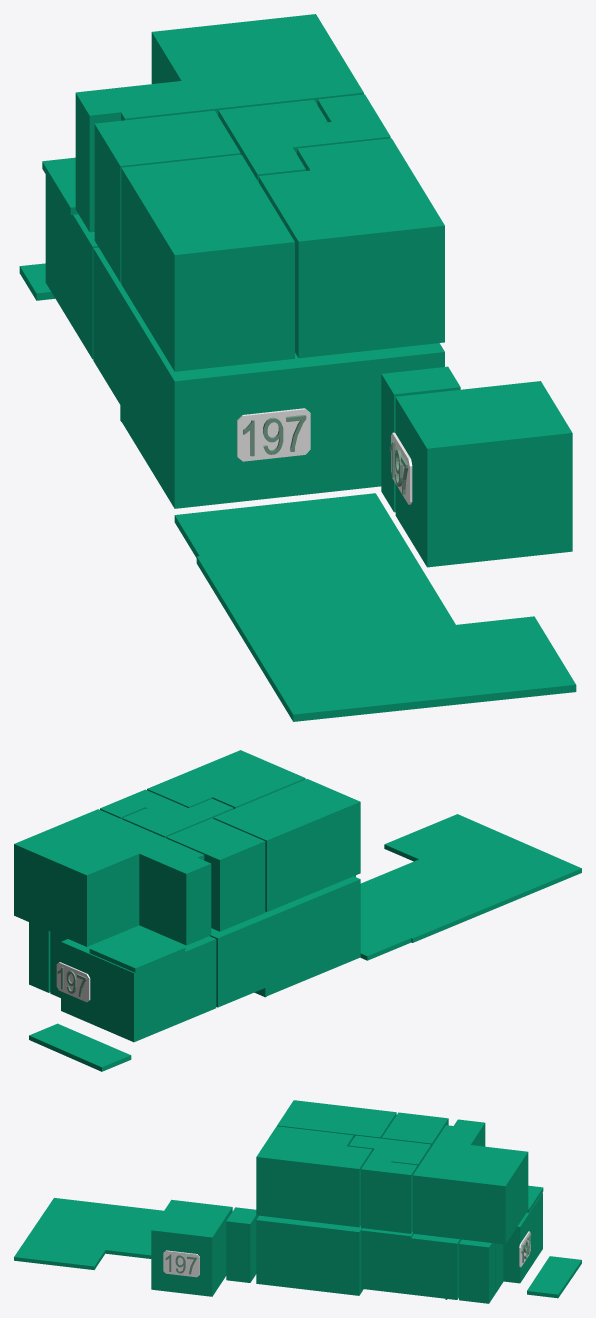
3 views of the same model, one above another, from view 1: azimuth 30°, elevation 25°; view 2: azimuth 150°, elevation 25°; view 3: azimuth 270°, elevation 25° (orthographic). The views are drawn at different scales.
Parts seen in each view (by area): view 1: g_14, g_1, g_7, g_6, g_5, g_11, g_9, g_8, g_0, g_4, g_22, g_10 (+1 smaller); view 2: g_11, g_14, g_1, g_7, g_0, g_9, g_6, g_13, g_12, g_8, g_3, g_10 (+2 smaller); view 3: g_11, g_6, g_14, g_1, g_2, g_5, g_10, g_7, g_3, g_4, g_0, g_9 (+3 smaller).
Part boxes in pixels (x1,y1,x2,y2): g_14: (174, 493, 576, 721); g_1: (93, 247, 444, 508); g_7: (121, 154, 294, 371); g_6: (258, 138, 444, 358); g_5: (395, 381, 572, 567); g_11: (75, 14, 363, 232); g_9: (94, 110, 240, 282); g_8: (218, 99, 336, 181); g_0: (45, 175, 98, 359); g_4: (381, 366, 460, 512); g_22: (237, 408, 310, 461); g_10: (317, 94, 390, 143); g_11: (14, 809, 211, 946); g_14: (360, 814, 581, 960); g_1: (210, 876, 360, 1007); g_7: (213, 779, 360, 911); g_0: (61, 925, 216, 1042); g_9: (166, 818, 265, 931); g_6: (147, 750, 305, 808); g_13: (89, 928, 185, 972); g_12: (29, 1023, 131, 1071); g_8: (122, 798, 233, 837); g_3: (29, 922, 50, 992); g_10: (100, 789, 168, 818); g_11: (413, 1119, 528, 1244); g_6: (256, 1126, 372, 1227); g_14: (14, 1198, 163, 1270); g_1: (256, 1215, 363, 1295); g_2: (361, 1228, 503, 1299); g_5: (151, 1199, 232, 1296); g_10: (361, 1158, 417, 1233); g_7: (277, 1100, 396, 1138); g_3: (459, 1239, 495, 1303); g_4: (226, 1207, 258, 1282); g_0: (503, 1192, 542, 1283); g_9: (382, 1112, 448, 1146).
Size of the model in its own units: 10.14 by 5.35 by 21.04.
